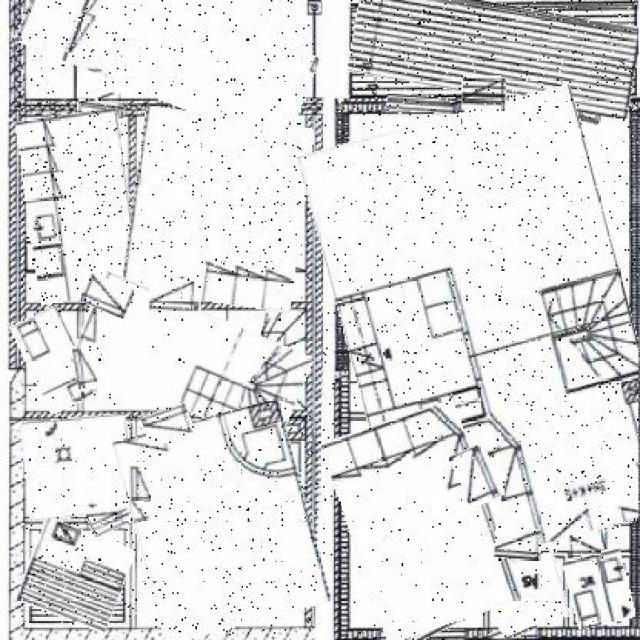door: (323, 100, 640, 565), (125, 408, 320, 635), (336, 407, 507, 636), (17, 0, 315, 122), (128, 110, 309, 308), (76, 290, 310, 428), (351, 0, 640, 106), (23, 110, 137, 302), (25, 417, 132, 518), (22, 525, 129, 626), (18, 308, 88, 410), (489, 556, 566, 630), (568, 551, 632, 626)
window: (454, 446, 500, 506), (81, 277, 132, 314), (143, 406, 192, 443), (149, 280, 200, 314), (86, 500, 131, 534), (495, 526, 540, 560), (69, 12, 102, 58), (463, 77, 506, 111), (75, 346, 103, 389), (128, 466, 150, 500), (569, 536, 600, 556)
zone: (512, 97, 602, 121), (181, 95, 274, 118), (376, 617, 466, 640), (386, 95, 457, 114), (487, 621, 535, 640), (78, 98, 124, 117)
